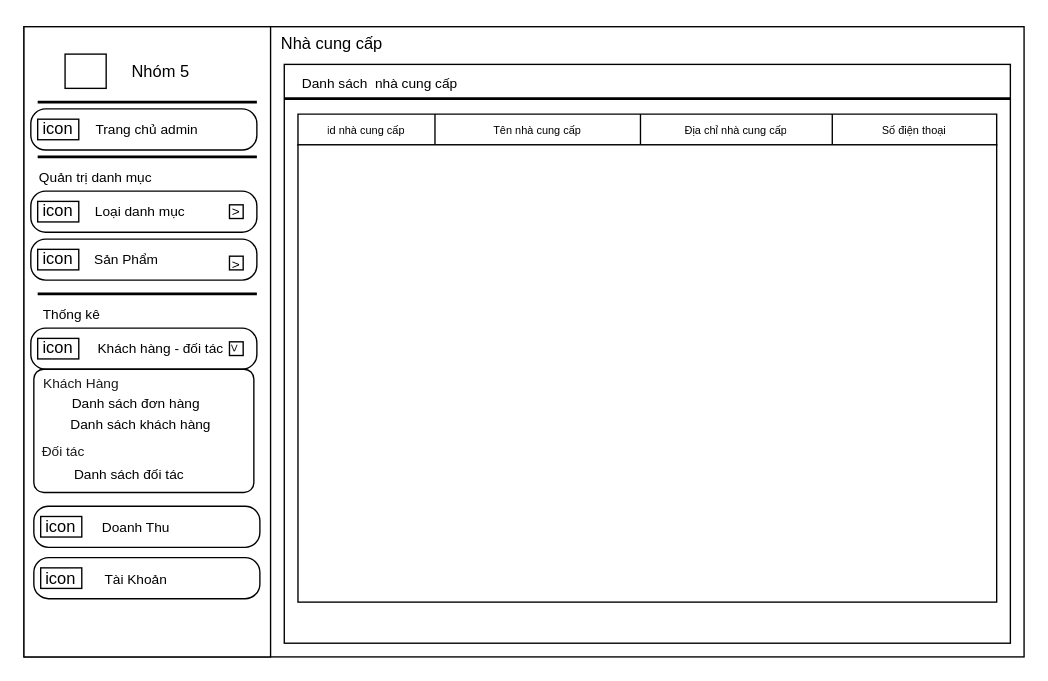
This 1048x681 diagram has some shape labels left out. Each missing label, with the centre of its shape:
"img" belongs at (85,70).
"ListView" belongs at (647,372).
